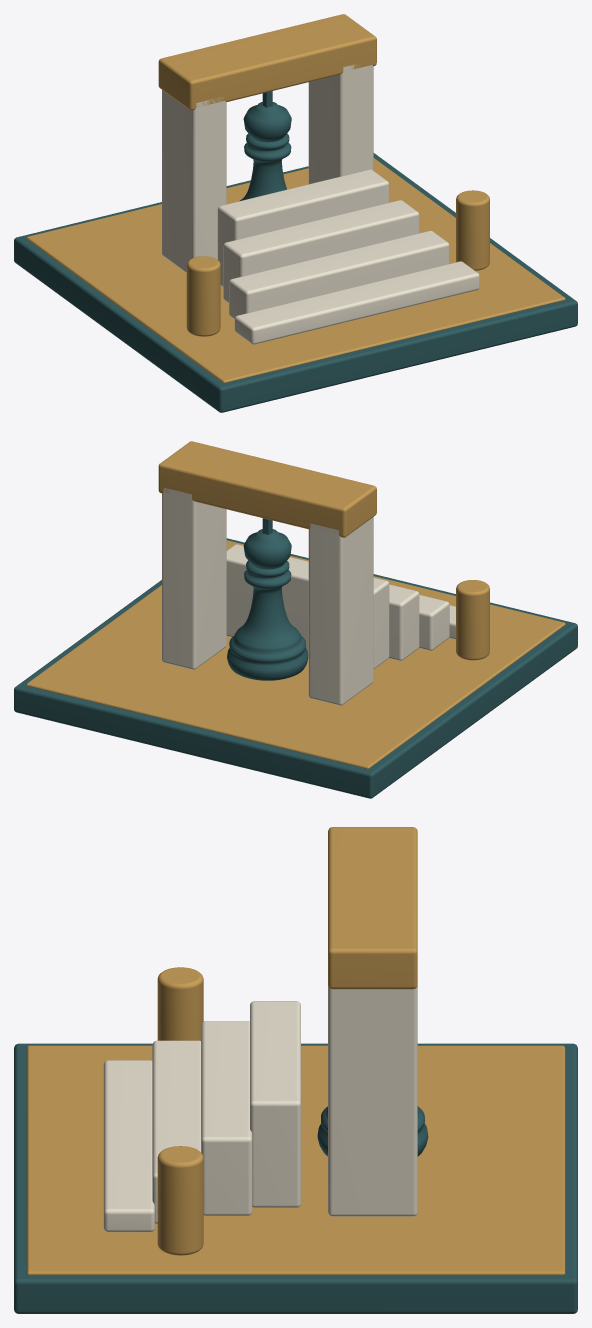
The model's file is main.cpp.glb.
The picture shows the model from 3 angles, top to bottom: view 1: azimuth 30°, elevation 25°; view 2: azimuth 150°, elevation 25°; view 3: azimuth 270°, elevation 25°; orthographic projection. The views are drawn at different scales.
Visible parts, largest first — view 1: Cube.001, Cube, Cube.008, Cube.006, Cube.003, Cube.002, Cube.004, Cube.007, Cube.005, K.002, Cylinder, Cylinder.001; view 2: Cube.001, Cube, Cube.008, Cube.006, Cube.007, K.002, Cube.005, Cylinder, Cube.004, Cube.003; view 3: Cube.001, Cube, Cube.007, Cube.008, Cube.005, Cube.004, Cube.002, Cube.003, Cylinder.001, Cylinder, K.002.
Boxes of the visible parts, x1,y1,x2,y2 form: Cube.001: (26,158,565,382); Cube: (14,153,577,412); Cube.008: (158,14,376,110); Cube.006: (162,90,226,272); Cube.003: (229,230,449,319); Cube.002: (234,261,479,344); Cube.004: (223,200,419,302); Cube.007: (308,64,373,184); Cube.005: (217,169,389,286); K.002: (239,91,291,201); Cylinder: (186,256,220,336); Cylinder.001: (456,190,489,270); Cube.001: (26,540,565,768); Cube: (14,538,577,798); Cube.008: (158,441,376,537); Cube.006: (308,517,373,705); Cube.007: (162,487,226,669); K.002: (227,518,308,680); Cube.005: (226,544,389,668); Cylinder: (456,580,489,660); Cube.004: (389,584,419,660); Cube.003: (419,594,449,650); Cube.001: (26,1045,565,1274); Cube: (14,1043,577,1313); Cube.007: (328,985,417,1216); Cube.008: (328,827,417,989); Cube.005: (250,1001,300,1207); Cube.004: (201,1021,252,1215); Cube.002: (103,1060,154,1232); Cube.003: (152,1040,200,1223); Cylinder.001: (157,1146,203,1255); Cylinder: (157,967,203,1040); K.002: (317,1106,428,1156).
Size of the model in its own units: 4.4 by 2.66 by 4.4.
